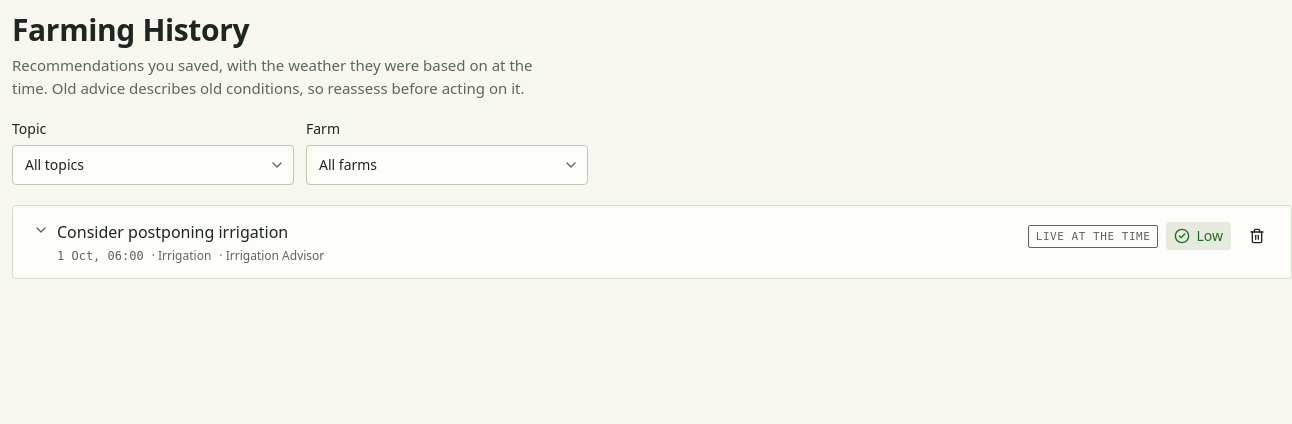
HistoryPage › filters on the server, and clears back to everything
Later steps or results of the test are not shown.
Click the dropdown labelled "topic".
click(54, 164)  # box [12,145,294,185]
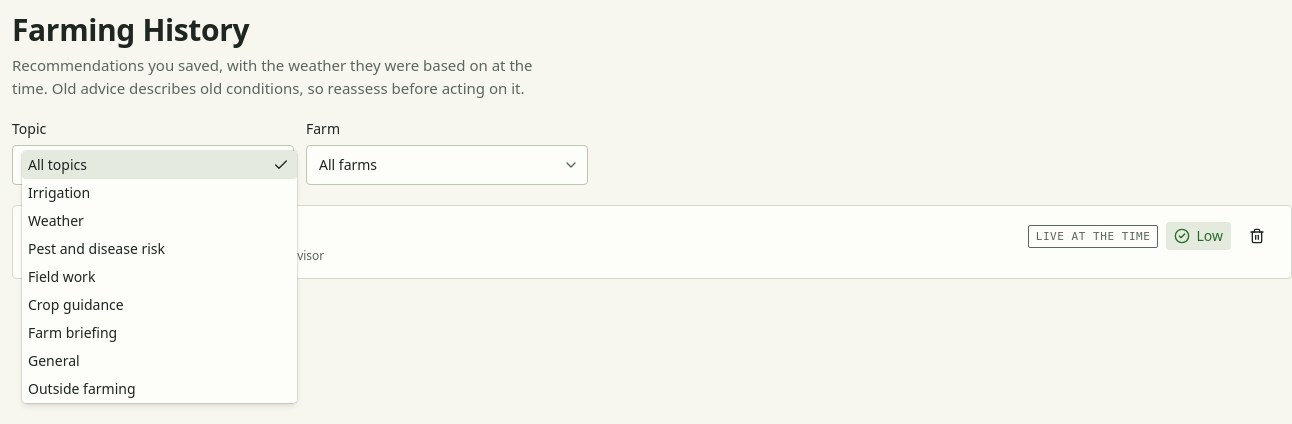
Click the option "Weather".
click(56, 220)  # box [28,211,84,230]
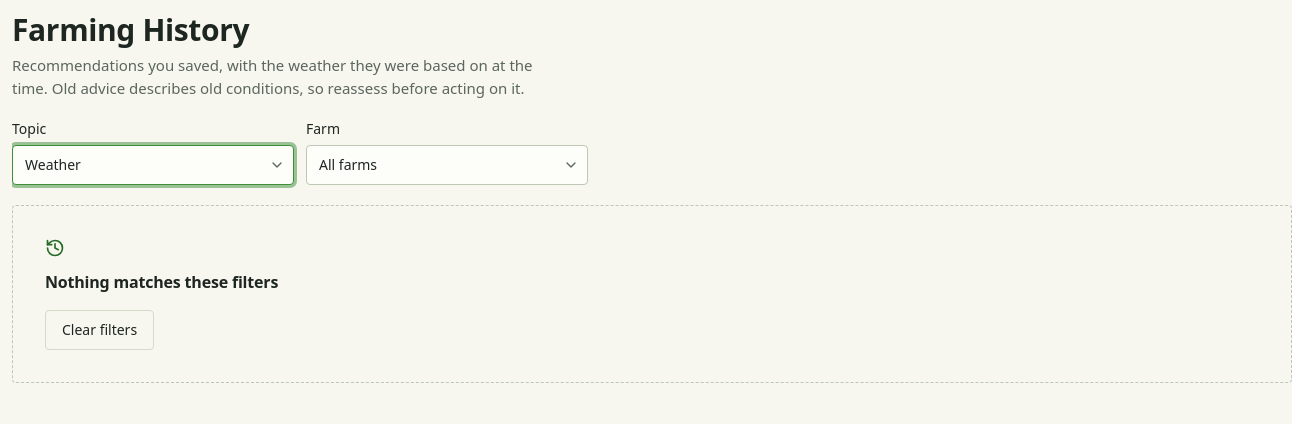
Now the text "Nothing matches these filters" is shown, box [45,271,278,293]
